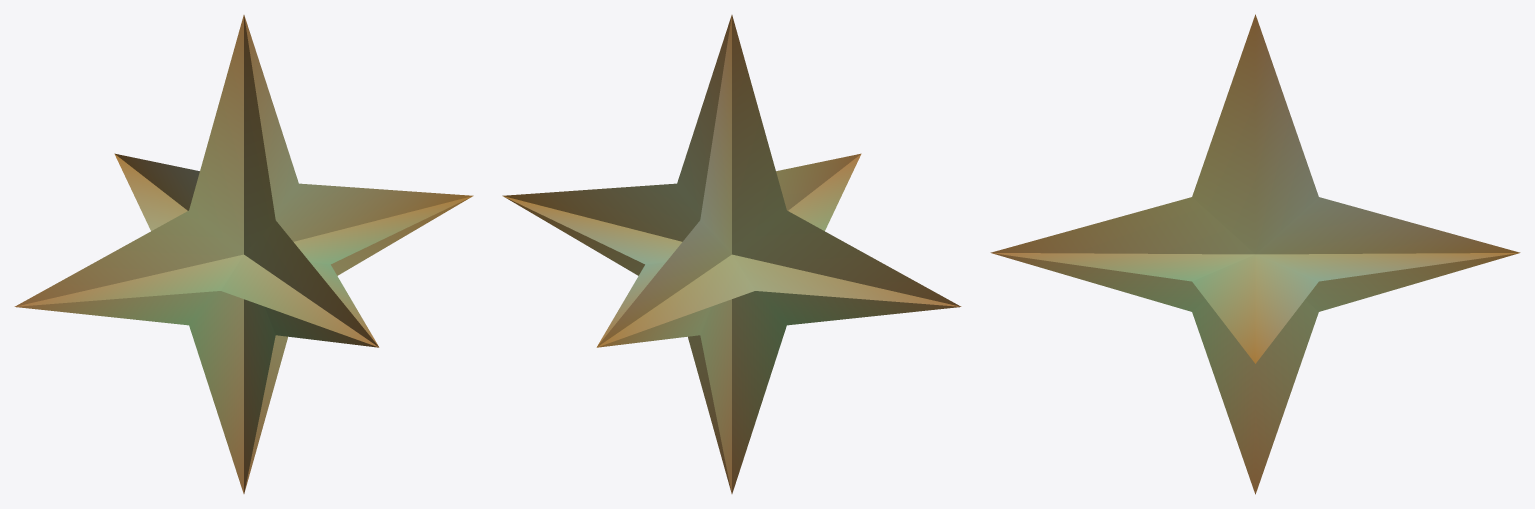
Rendered from space-stars-star_v3.glb.
3 renders of one model, left to right at view 1: azimuth 30°, elevation 25°; view 2: azimuth 150°, elevation 25°; view 3: azimuth 270°, elevation 25°, orthographic.
Parts seen in each view (by area): view 1: Star_v3; view 2: Star_v3; view 3: Star_v3.
Part boxes in pixels (x1=…): Star_v3: x1=14, y1=15, x2=473, y2=493; Star_v3: x1=502, y1=15, x2=961, y2=493; Star_v3: x1=990, y1=14, x2=1520, y2=494.
Bounding box in the file's own units: 0.5 × 0.5 × 0.5.
